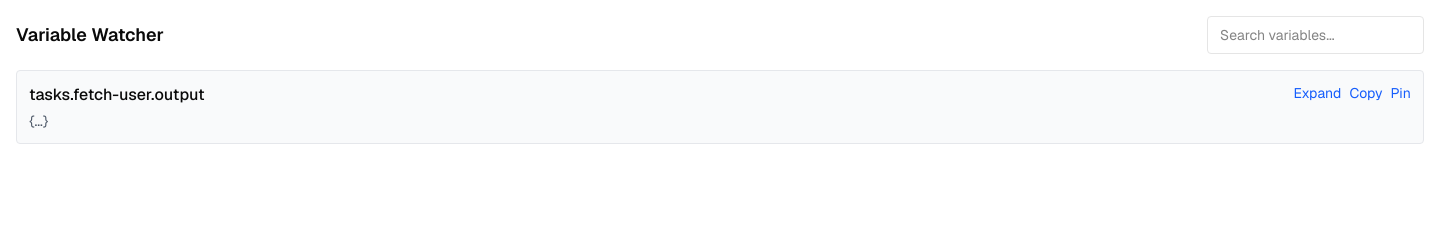
Scenario: VariableWatcher › should expand/collapse variable details
Click the button "Expand": (1317, 93) [1293,83,1341,103]
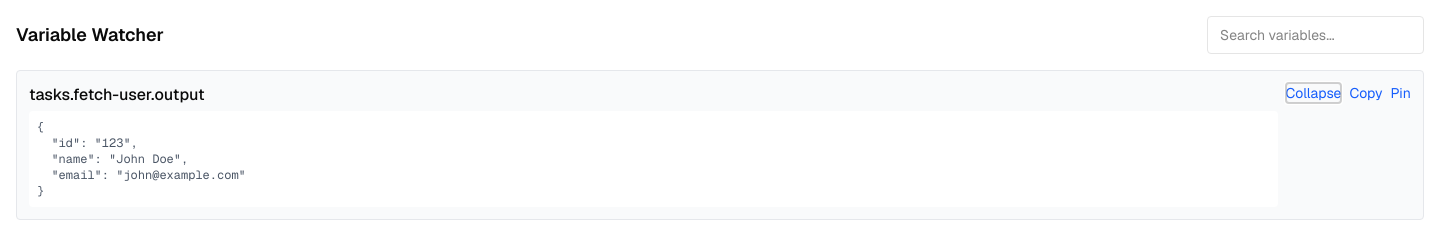
Result: the text "john@example.com" is shown at [37,119,246,199]
